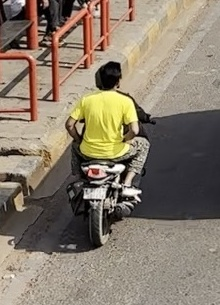BikeWithRider: (60, 58, 159, 252)
NoHelmet: (85, 58, 131, 96)
